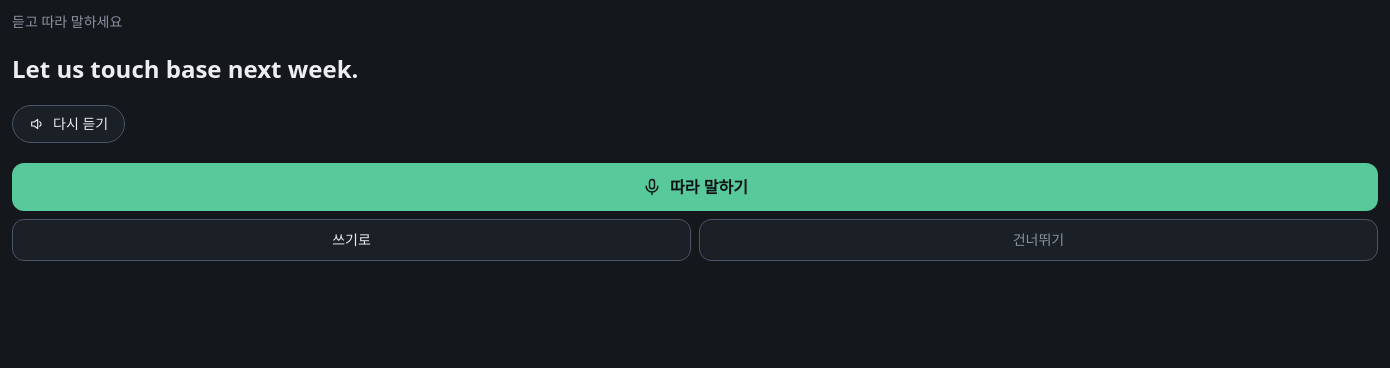
Test: RepeatSentenceCard › 제출하면 키워드와 뜻이 나타난다
Click the button "따라 말하기" at (695, 187), box x1=12 y1=163 x2=1378 y2=211
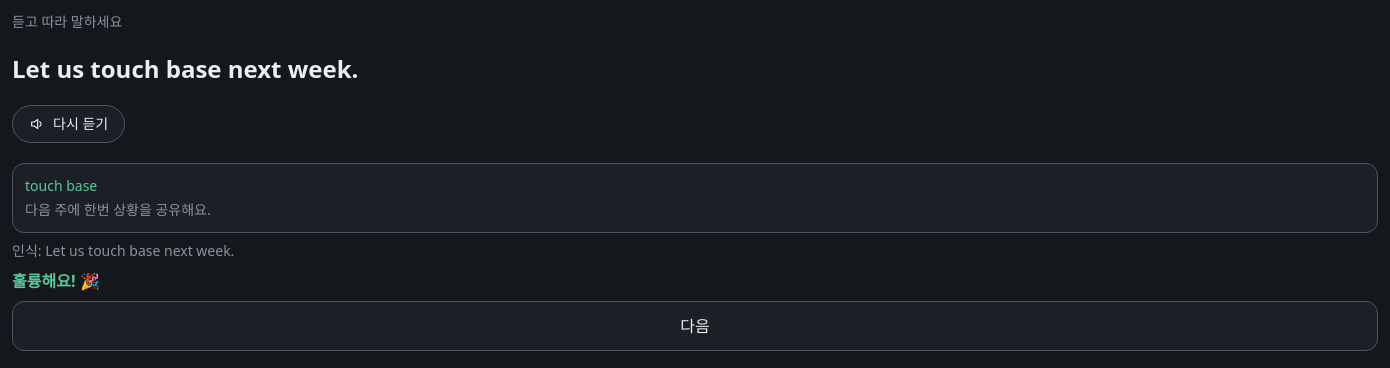
Check: the text "touch base" is shown, box x1=25 y1=176 x2=97 y2=195
Check: the text "다음 주에 한번 상황을 공유해요." is shown, box x1=25 y1=200 x2=211 y2=219
